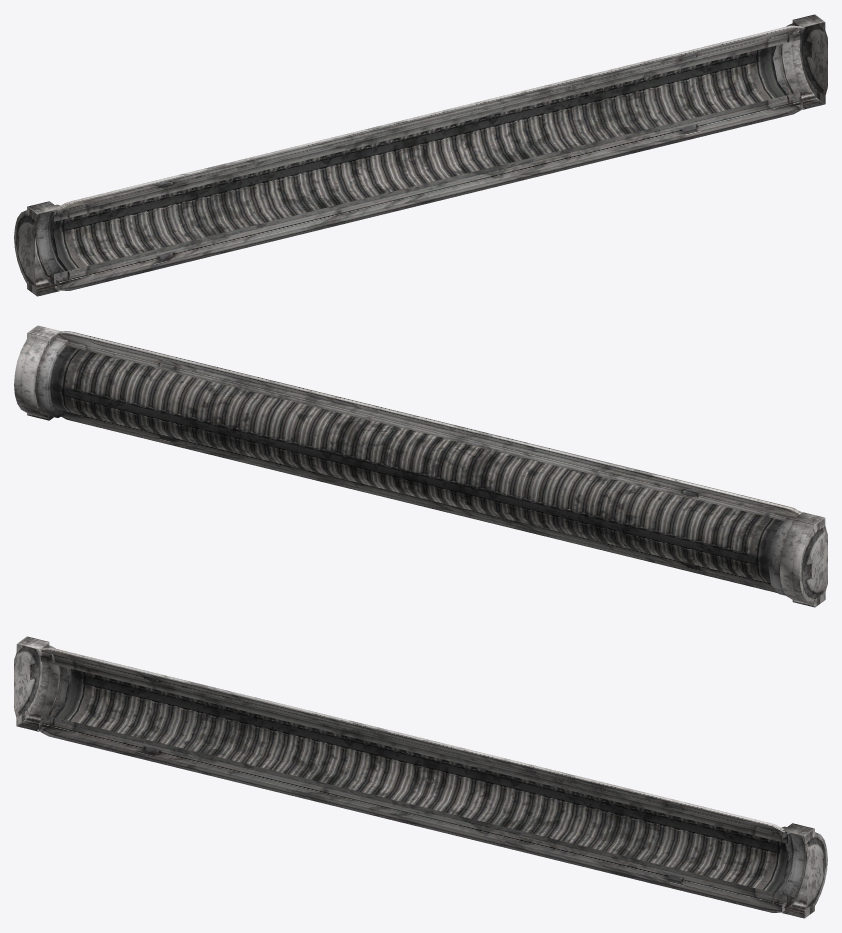
File: wall_long_skinny.dae
3 views of the same model, one above another, from view 1: azimuth 30°, elevation 25°; view 2: azimuth 150°, elevation 25°; view 3: azimuth 330°, elevation 25° (orthographic).
Visible parts, largest first — view 1: wall_medium_robot; view 2: wall_medium_robot; view 3: wall_medium_robot.
Boxes of the visible parts, box(x1,y1,x2,y2) form: wall_medium_robot: box(14, 14, 827, 296); wall_medium_robot: box(14, 325, 827, 607); wall_medium_robot: box(14, 636, 827, 918).
Size of the model in its own units: 2.02 by 0.2116 by 0.1095.
